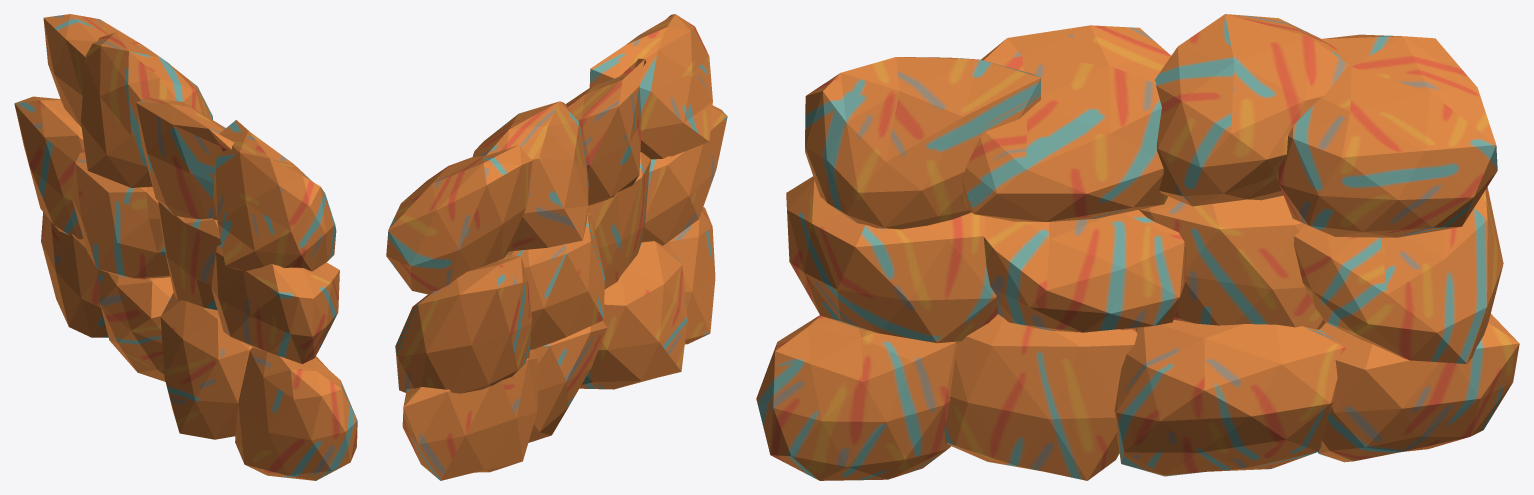
Rendered from level 2 breakable wall 1.fbx.
3 renders of one model, left to right at view 1: azimuth 30°, elevation 25°; view 2: azimuth 150°, elevation 25°; view 3: azimuth 270°, elevation 25°, orthographic. The views are drawn at different scales.
Visible parts, largest first — view 1: BreakableWall_01; view 2: BreakableWall_01; view 3: BreakableWall_01.
Boxes of the visible parts, x1,y1,x2,y2 form: BreakableWall_01: (14, 14, 357, 480); BreakableWall_01: (386, 14, 727, 480); BreakableWall_01: (756, 14, 1519, 480).
Size of the model in its own units: 1.37 by 3.31 by 5.13.
1 material, 1 textured.
